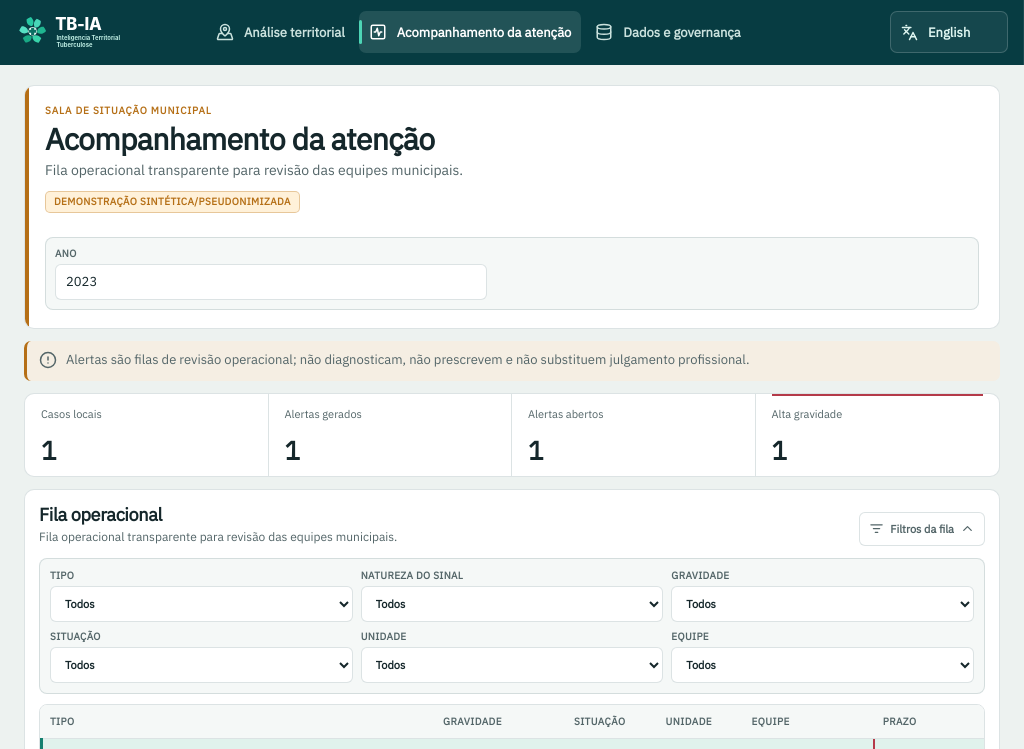
App › counts and resets active operational filters
The width and height of the screenshot is (1024, 749).
Step 1. Select "maior atenção" in the dropdown labelled "Gravidade" → (823, 604), box [671, 586, 974, 622]
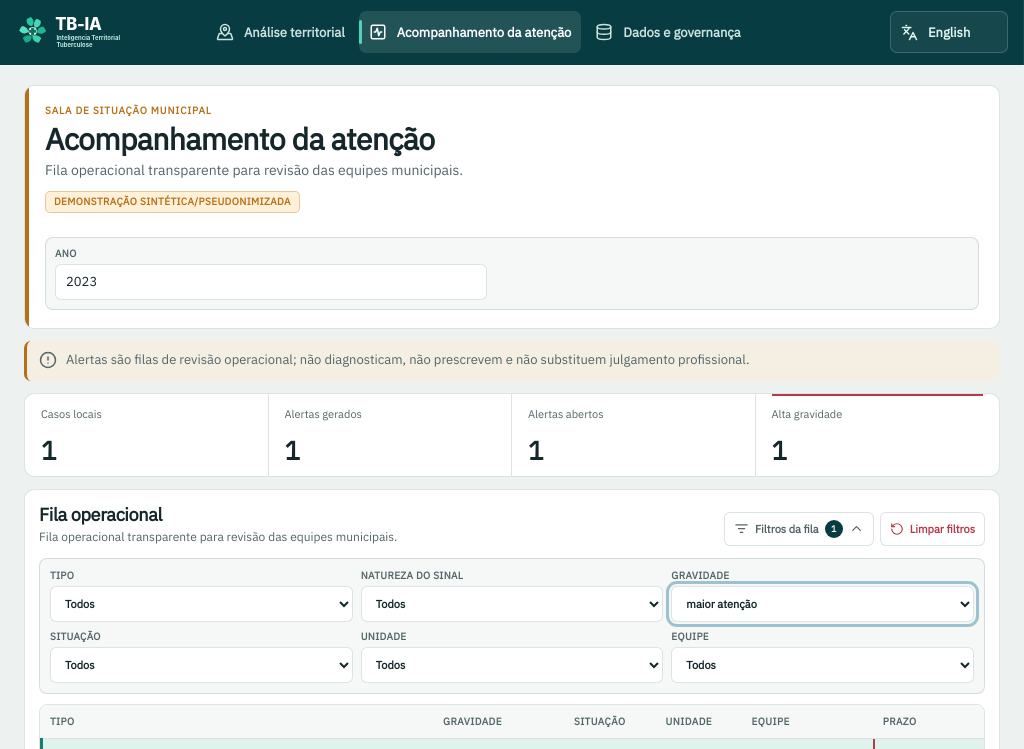
Expected: the 5th text "1" is shown, [825, 520, 843, 538]
Step 2. Click the button "Limpar filtros" → (932, 529), box [880, 512, 985, 546]
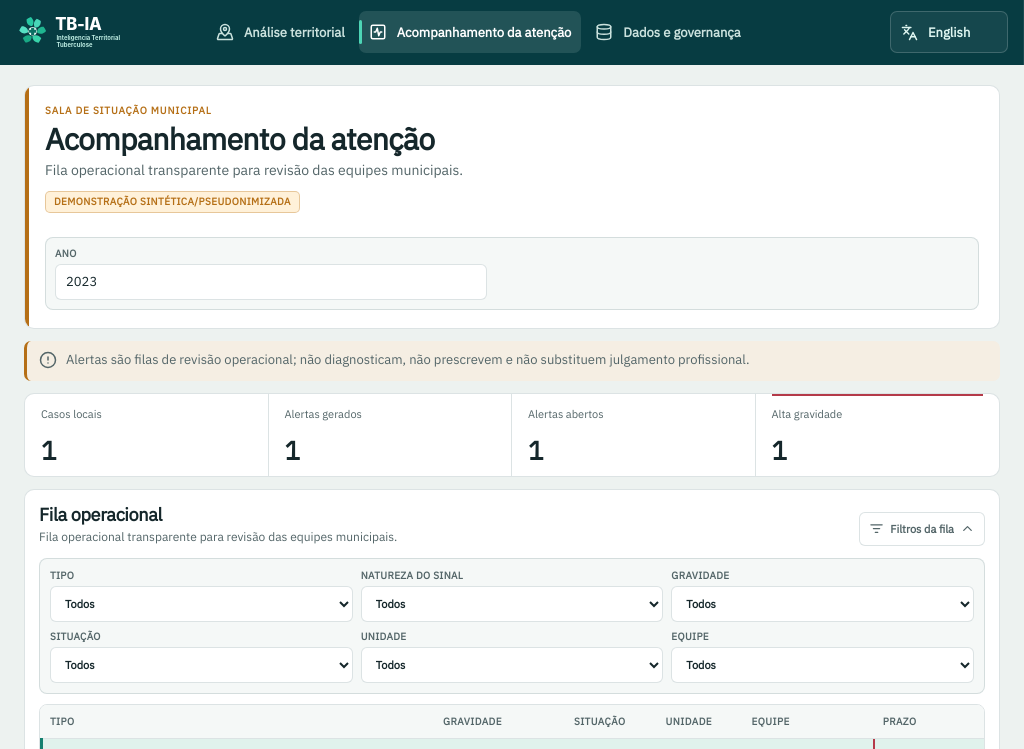
Expected: the button "Limpar filtros" is gone
